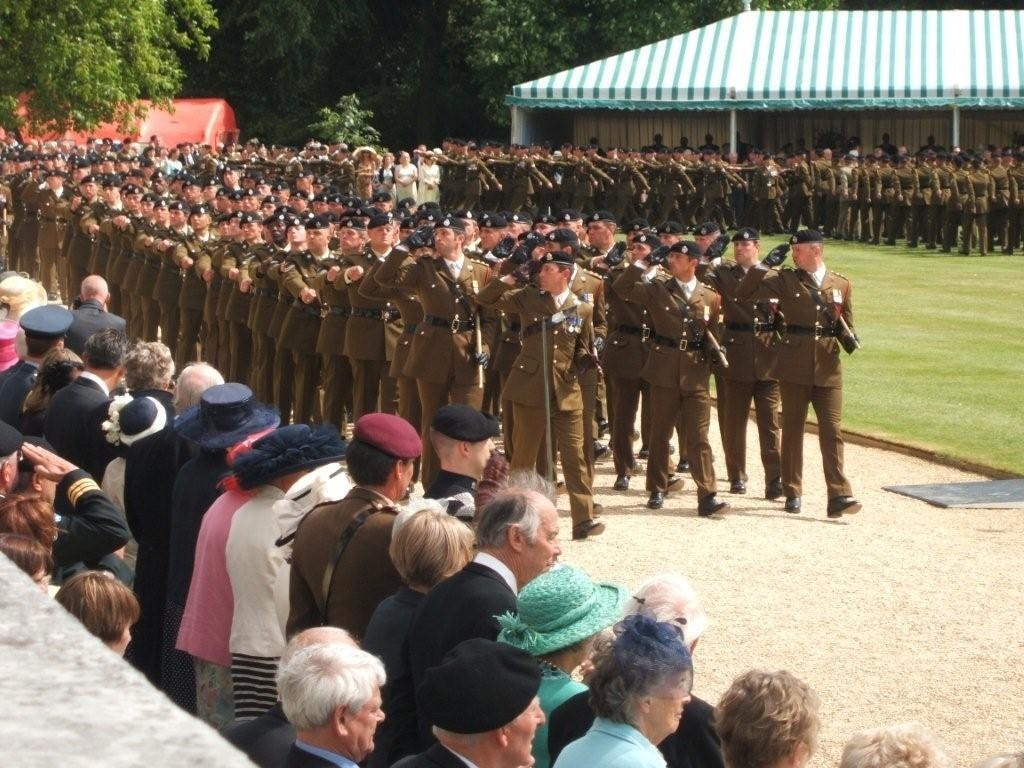human_face: (507, 676, 545, 762), (650, 658, 692, 732), (520, 506, 562, 574), (346, 676, 384, 750), (18, 558, 46, 616), (102, 611, 130, 665), (469, 422, 495, 472), (42, 458, 60, 506), (402, 448, 418, 498), (790, 238, 814, 268), (539, 263, 563, 291), (434, 224, 458, 250), (588, 220, 610, 248), (733, 237, 755, 263), (669, 250, 691, 274), (370, 222, 392, 246), (544, 238, 564, 264), (631, 240, 651, 264), (480, 224, 500, 248), (340, 226, 360, 250), (556, 218, 576, 240), (304, 227, 326, 247), (266, 220, 286, 242), (694, 232, 712, 254), (658, 230, 676, 252), (534, 221, 552, 241), (456, 216, 472, 238), (286, 225, 306, 242), (624, 230, 642, 248), (506, 222, 524, 240), (240, 220, 258, 236), (126, 192, 142, 210), (169, 207, 185, 224), (190, 212, 206, 228), (152, 204, 168, 220), (288, 196, 304, 212), (228, 216, 242, 234), (104, 184, 118, 201), (372, 200, 388, 214), (418, 218, 432, 232), (400, 228, 414, 242), (141, 200, 155, 214), (82, 182, 96, 196), (242, 196, 256, 210), (202, 185, 216, 199), (120, 190, 132, 206), (262, 202, 274, 218), (184, 184, 196, 200), (224, 168, 236, 184), (218, 220, 230, 234), (48, 174, 60, 188), (328, 200, 340, 214), (315, 200, 327, 214), (216, 194, 228, 208), (172, 179, 184, 193), (152, 178, 164, 192), (241, 176, 253, 190), (72, 168, 84, 182), (230, 196, 240, 212), (272, 188, 284, 201), (256, 184, 268, 196), (138, 165, 150, 177), (296, 176, 306, 190), (343, 204, 353, 216), (406, 204, 416, 214), (128, 174, 138, 184), (131, 160, 141, 170), (102, 161, 112, 171), (52, 157, 62, 167), (117, 160, 125, 170), (92, 162, 100, 172), (31, 168, 39, 178), (605, 148, 613, 158), (182, 146, 190, 154), (226, 142, 234, 150), (424, 156, 432, 164), (616, 151, 624, 159), (148, 148, 154, 156), (173, 150, 179, 158), (246, 144, 252, 152), (363, 150, 369, 158), (400, 154, 406, 162), (240, 151, 246, 159), (200, 146, 206, 154), (272, 148, 278, 156), (442, 139, 448, 147), (762, 156, 768, 164), (587, 146, 593, 154), (153, 138, 159, 144), (124, 142, 130, 148), (89, 140, 95, 146), (384, 156, 390, 162), (338, 152, 344, 158), (287, 150, 293, 156), (78, 148, 84, 154), (575, 148, 581, 154), (267, 151, 271, 159), (492, 145, 496, 153), (104, 144, 110, 148)
